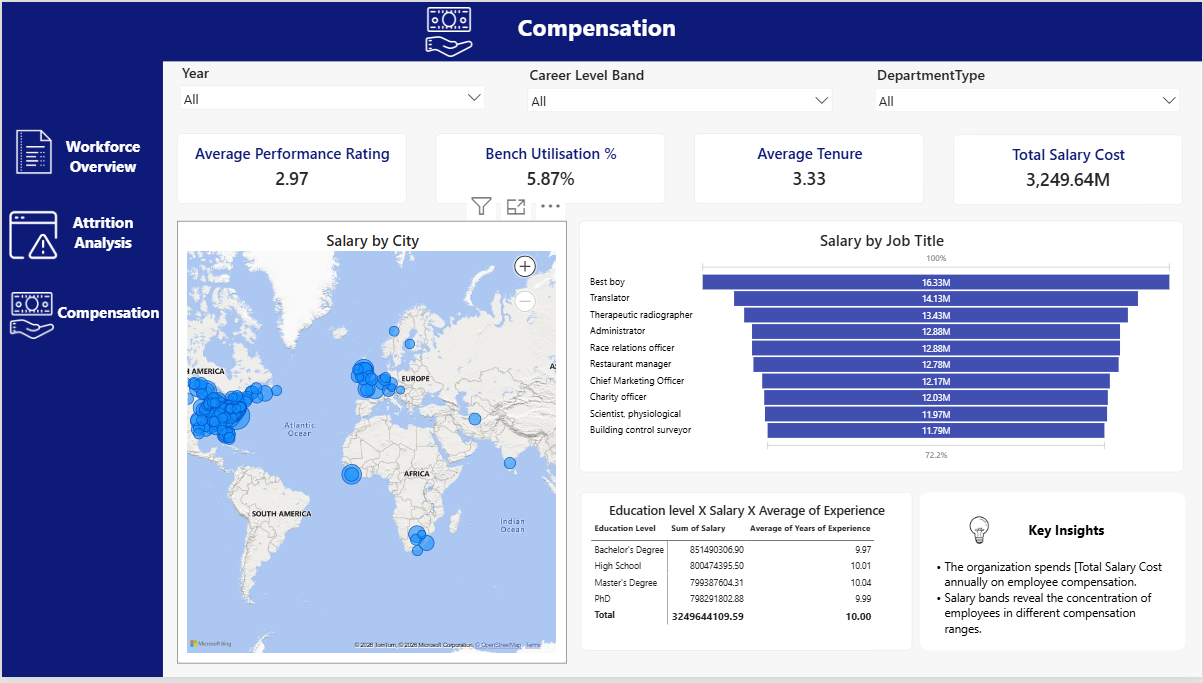

The dashboard page shown, as its layout file describes it:
{"tool":"powerbi","page":{"name":"Compensation","canvas":[1920,1080],"ordinal":2},"visuals":[{"type":"shape","box":[0,0,1920,95],"z":0,"group":"g1"},{"type":"shape","box":[0,0,257.5,1080],"z":0,"group":"g2"},{"type":"group","id":"g1","title":"top bar","box":[0,0,1920,95],"z":0},{"type":"textbox","box":[742,15,420,65],"z":0,"group":"g3"},{"type":"image","box":[5,190,90,95],"z":0,"group":"g4"},{"type":"image","box":[0,333.7,100,77.5],"z":0,"group":"g6"},{"type":"image","box":[0,465,91.6,75],"z":0,"group":"g5"},{"type":"group","id":"g2","title":"side bar","box":[0,0,260,1080],"z":1000},{"type":"image","box":[647,8.7,129.8,80.1],"z":1000,"group":"g3"},{"type":"group","id":"g3","title":"Title","box":[647,8.7,515,80.1],"z":1000,"group":"g1"},{"type":"group","id":"g4","title":"Workforce Overview","box":[0,185,258.8,110],"z":1000,"group":"g2"},{"type":"actionButton","box":[0,185,257.5,105],"z":1000,"group":"g4"},{"type":"actionButton","box":[2.5,321.2,257.5,105],"z":1000,"group":"g6"},{"type":"textbox","box":[85.4,481.2,168.4,62.5],"z":1000,"group":"g5"},{"type":"card","title":"Average Performance Rating","fields":{"Values":["Measure table.Avg_Performance_Rating"]},"box":[280,210,367.5,112.5],"z":2000},{"type":"textbox","box":[63.8,212.5,195,82.5],"z":2000,"group":"g4"},{"type":"textbox","box":[63.8,335,195,72.5],"z":2000,"group":"g6"},{"type":"group","id":"g5","title":"Compensation","box":[0,452.5,257.5,105],"z":2000,"group":"g2"},{"type":"actionButton","box":[2.5,452.5,255,105],"z":2000,"group":"g5"},{"type":"card","title":"Bench Utilisation %","fields":{"Values":["Measure table.Bench_Utilisation_%"]},"box":[694.2,210,367.5,112.5],"z":3000},{"type":"group","id":"g6","title":"Attrition Analysis","box":[0,321.2,260,105],"z":3000,"group":"g2"},{"type":"card","title":"Total Salary Cost","fields":{"Values":["Measure table.Total_Salary_Cost"]},"box":[1522.5,212.5,367.5,112.5],"z":4000},{"type":"card","title":"Average Tenure","fields":{"Values":["Measure table.Avg_Tenure"]},"box":[1108.3,210,367.5,112.5],"z":5000},{"type":"slicer","fields":{"Values":["DimDate.Year"]},"box":[280,95,497.5,90],"z":6000},{"type":"slicer","fields":{"Values":["EmployeeMaster.Career_Level_Band"]},"box":[836.2,100,497.5,90],"z":7000},{"type":"slicer","fields":{"Values":["EmployeeMaster.DepartmentType"]},"box":[1392.5,100,497.5,90],"z":8000},{"type":"funnel","title":"Salary by Job Title","fields":{"Category":["Recruitment.Job Title"],"Y":["Sum(Recruitment. Salary)"]},"box":[924,350,966,402],"z":9000},{"type":"map","title":"Salary by City","fields":{"Category":["Recruitment.City"],"Size":["Sum(Recruitment. Salary)"]},"box":[280,350,624,708],"z":10000},{"type":"pivotTable","title":"Education level X Salary X Average of Experience","fields":{"Rows":["Recruitment.Education Level"],"Values":["Sum(Recruitment. Salary)","Avg(Recruitment.Years of Experience)"]},"box":[925,783.3,530,253.3],"z":11000},{"type":"group","id":"g7","title":"Key Insights","box":[1468,784,426,254],"z":12000},{"type":"shape","box":[1468,784,426,254],"z":12000,"group":"g7"},{"type":"textbox","box":[1626,830,154,40],"z":13000,"group":"g7"},{"type":"image","box":[1530,816.1,66.6,58.4],"z":14000,"group":"g7"},{"type":"textbox","box":[1480,890,396,138],"z":15000,"group":"g7"}]}

Visuals, with their boxes in screenshot pixels (x1, y1, x2, y2), scaled from the page's 1920x1080 canvas onto the 1203x683 screenshot:
shape: locate(0, 0, 1202, 60)
shape: locate(0, 0, 161, 682)
"top bar" group: locate(0, 0, 1202, 60)
textbox: locate(465, 9, 728, 51)
image: locate(3, 120, 60, 180)
image: locate(0, 211, 63, 260)
image: locate(0, 294, 57, 342)
"side bar" group: locate(0, 0, 163, 682)
image: locate(405, 6, 487, 56)
"Title" group: locate(405, 6, 728, 56)
"Workforce Overview" group: locate(0, 117, 162, 187)
actionButton: locate(0, 117, 161, 183)
actionButton: locate(2, 203, 163, 270)
textbox: locate(54, 304, 159, 344)
"Average Performance Rating" card: locate(175, 133, 406, 204)
textbox: locate(40, 134, 162, 187)
textbox: locate(40, 212, 162, 258)
"Compensation" group: locate(0, 286, 161, 353)
actionButton: locate(2, 286, 161, 353)
"Bench Utilisation %" card: locate(435, 133, 665, 204)
"Attrition Analysis" group: locate(0, 203, 163, 270)
"Total Salary Cost" card: locate(954, 134, 1184, 206)
"Average Tenure" card: locate(694, 133, 925, 204)
slicer - DimDate.Year: locate(175, 60, 487, 117)
slicer - EmployeeMaster.Career_Level_Band: locate(524, 63, 836, 120)
slicer - EmployeeMaster.DepartmentType: locate(872, 63, 1184, 120)
"Salary by Job Title" funnel: locate(579, 221, 1184, 476)
"Salary by City" map: locate(175, 221, 566, 669)
"Education level X Salary X Average of Experience" pivotTable: locate(580, 495, 912, 656)
"Key Insights" group: locate(920, 496, 1187, 656)
shape: locate(920, 496, 1187, 656)
textbox: locate(1019, 525, 1115, 550)
image: locate(959, 516, 1000, 553)
textbox: locate(927, 563, 1175, 650)
